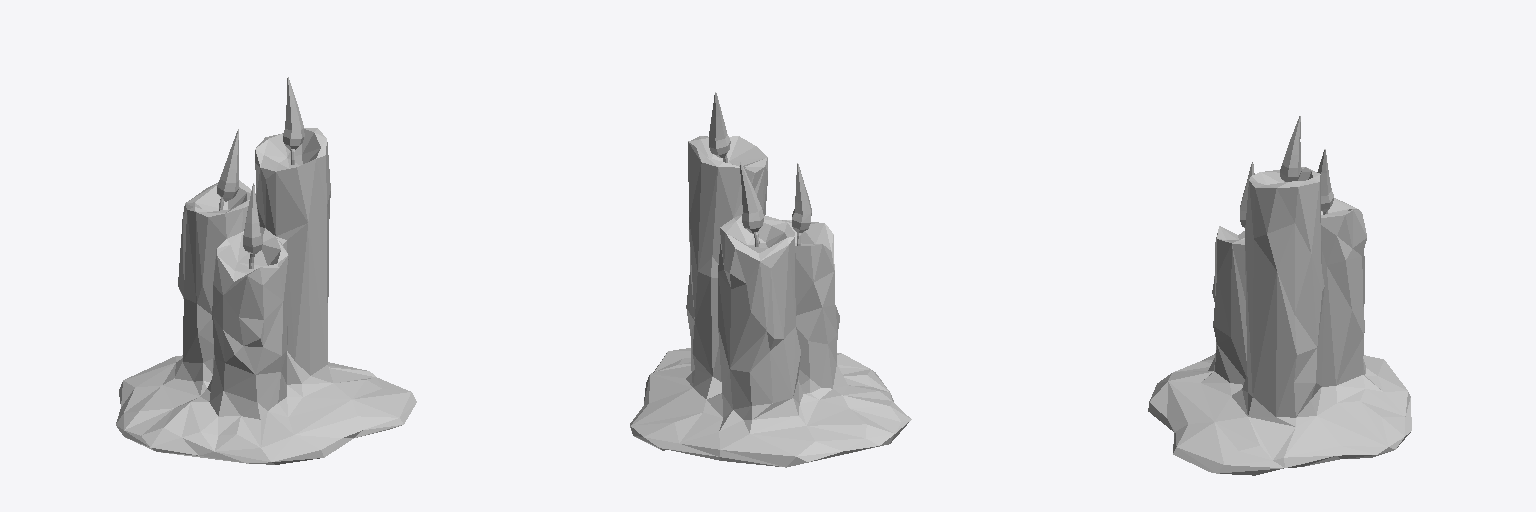
Rendered from candle19.obj.
3 views of the same model, side by side, from view 1: azimuth 30°, elevation 25°; view 2: azimuth 150°, elevation 25°; view 3: azimuth 270°, elevation 25° (orthographic).
Visible parts, largest first — view 1: Object003, candleflame003, candleflame002, candleflame001; view 2: Object003, candleflame002, candleflame003, candleflame001; view 3: Object003, candleflame003, candleflame002.
Boxes of the visible parts, x1=… form: Object003: x1=116, y1=128, x2=416, y2=464; candleflame003: x1=283, y1=77, x2=304, y2=149; candleflame002: x1=217, y1=129, x2=238, y2=201; candleflame001: x1=243, y1=183, x2=262, y2=254; Object003: x1=630, y1=136, x2=911, y2=467; candleflame002: x1=740, y1=162, x2=763, y2=233; candleflame003: x1=709, y1=92, x2=730, y2=157; candleflame001: x1=792, y1=163, x2=811, y2=232; Object003: x1=1148, y1=167, x2=1411, y2=475; candleflame003: x1=1280, y1=116, x2=1301, y2=181; candleflame002: x1=1317, y1=149, x2=1333, y2=211.
Size of the model in its own units: 1.05 by 1.24 by 0.9231.